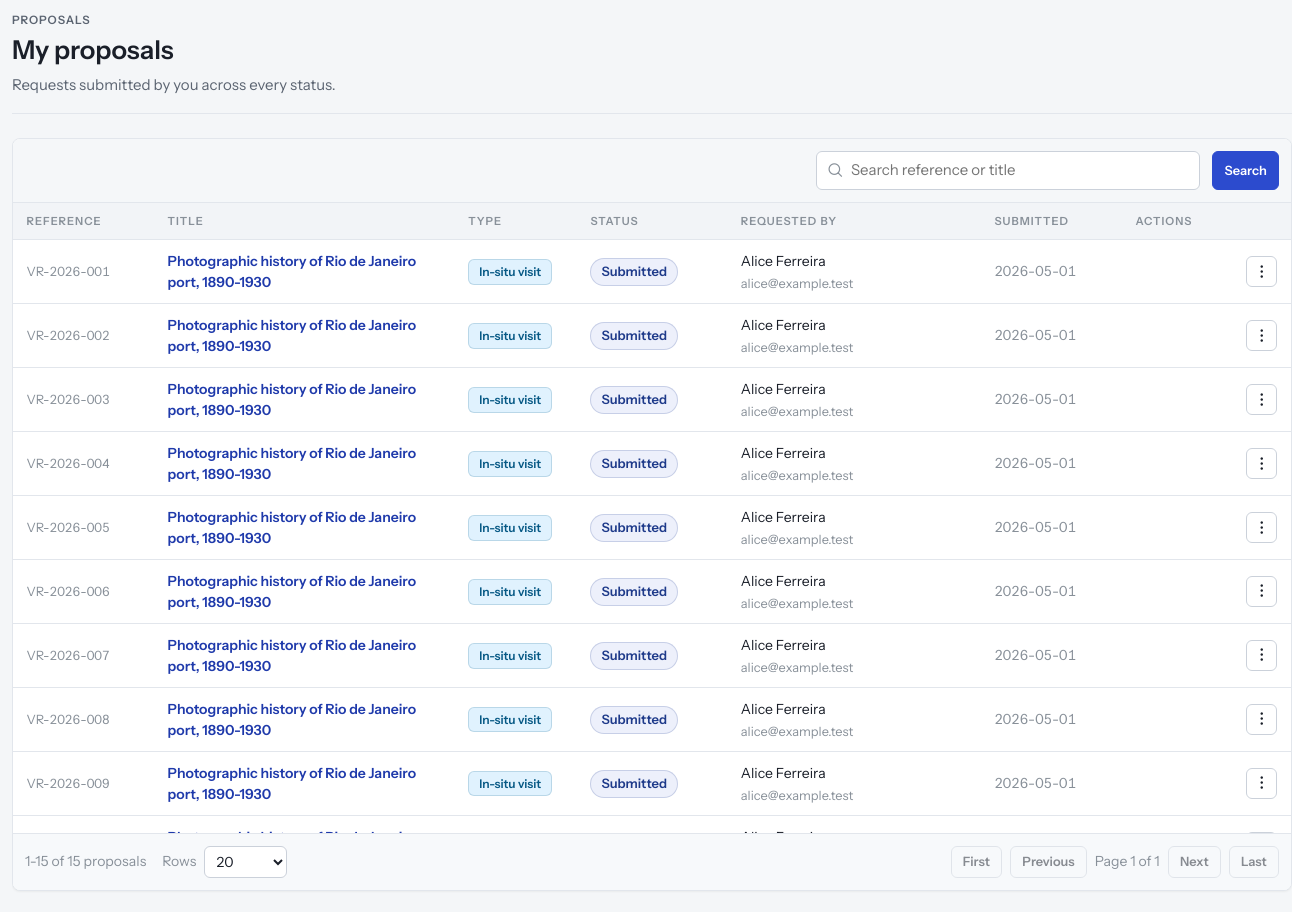
Test: ProposalsMyPageComponent › reflects the default page size in the Rows select and re-queries when it changes
Select "10" in the dropdown labelled "Rows" at {"x": 245, "y": 862}, box [204, 846, 286, 878]
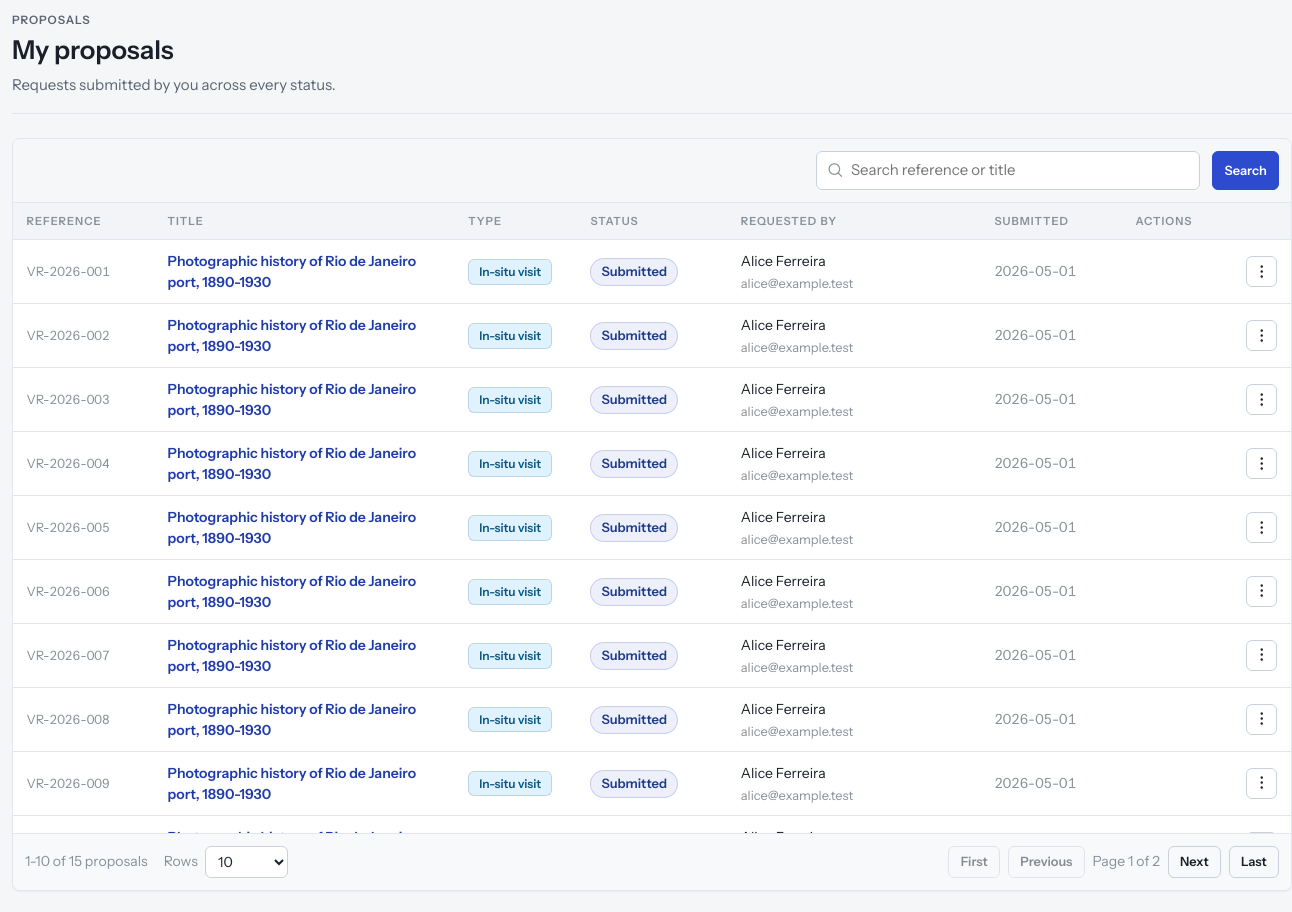
Result: the text "Page 1 of 2" is shown at [1093, 851, 1160, 872]
